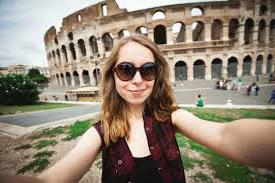face: (114, 42, 156, 105)
